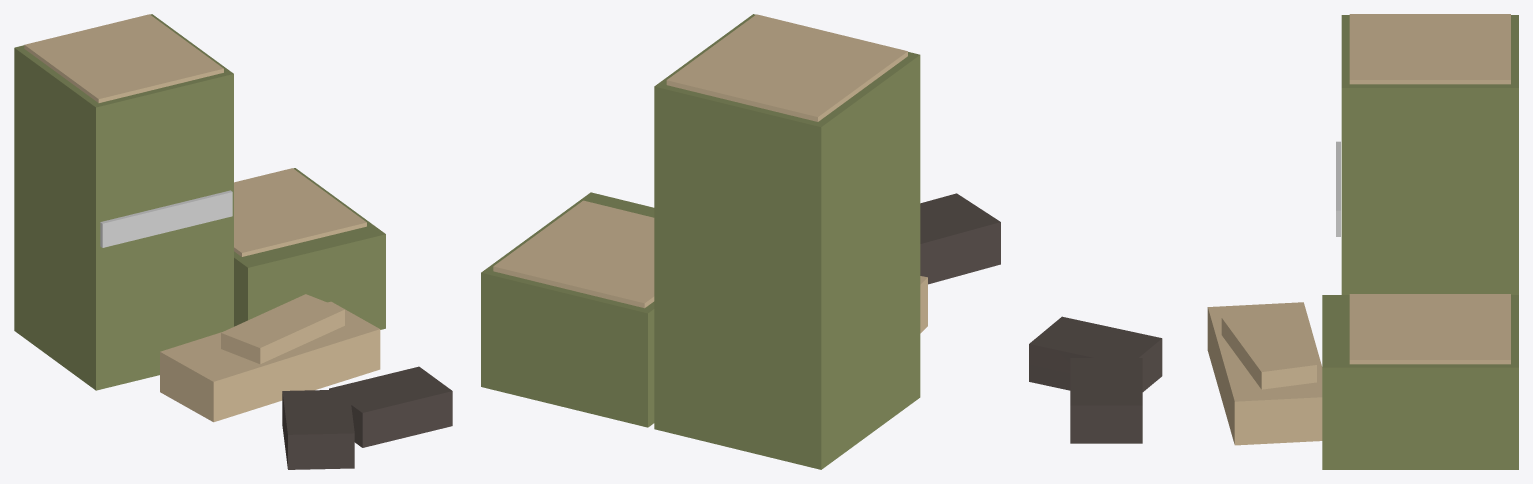
The model's file is SM_HescoCorto2_v2_Escalonado_e1_Danado_LOD1.fbx.
3 renders of one model, left to right at view 1: azimuth 30°, elevation 25°; view 2: azimuth 150°, elevation 25°; view 3: azimuth 270°, elevation 25°, orthographic. The views are drawn at different scales.
Visible parts, largest first — view 1: SM_hesco_piezas_v69_LOD1; view 2: SM_hesco_piezas_v69_LOD1; view 3: SM_hesco_piezas_v69_LOD1.
Boxes of the visible parts, x1,y1,x2,y2 form: SM_hesco_piezas_v69_LOD1: (14, 14, 452, 469); SM_hesco_piezas_v69_LOD1: (481, 14, 1000, 469); SM_hesco_piezas_v69_LOD1: (1029, 14, 1518, 469).
Bounding box in the file's own units: 2.18 × 2.13 × 3.04.
